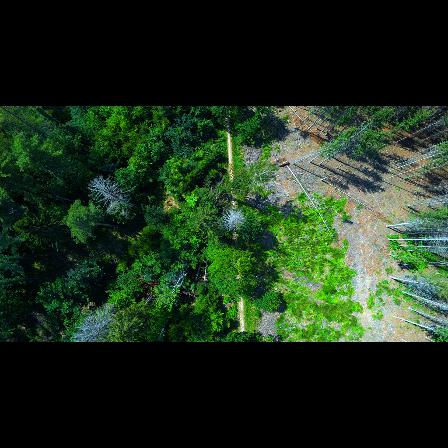Dead: (86, 174, 138, 222), (70, 300, 122, 343), (217, 203, 248, 235)
